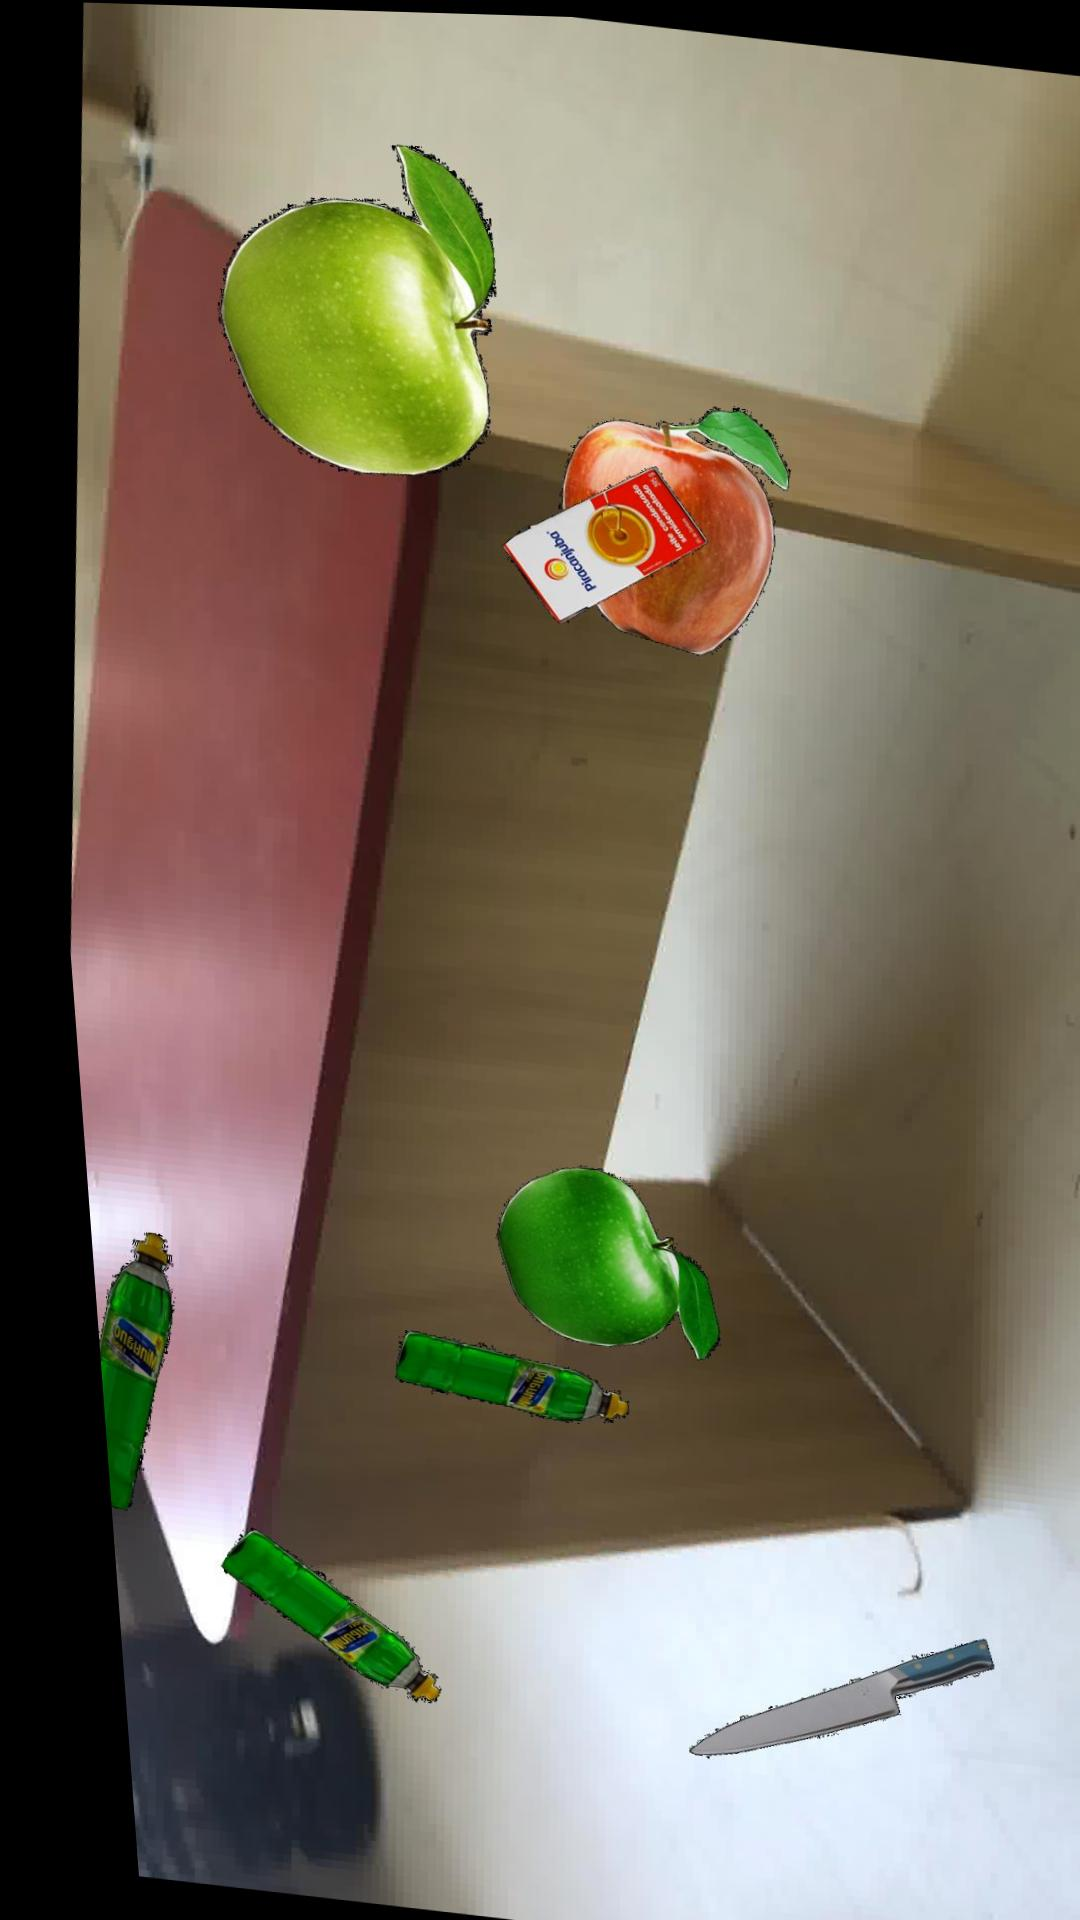apple: (554, 404, 783, 651)
cleaner: (196, 1527, 415, 1701), (78, 1233, 154, 1511), (373, 1329, 607, 1420)
green apple: (215, 144, 492, 475), (477, 1166, 699, 1357)
knife: (662, 1634, 968, 1753)
